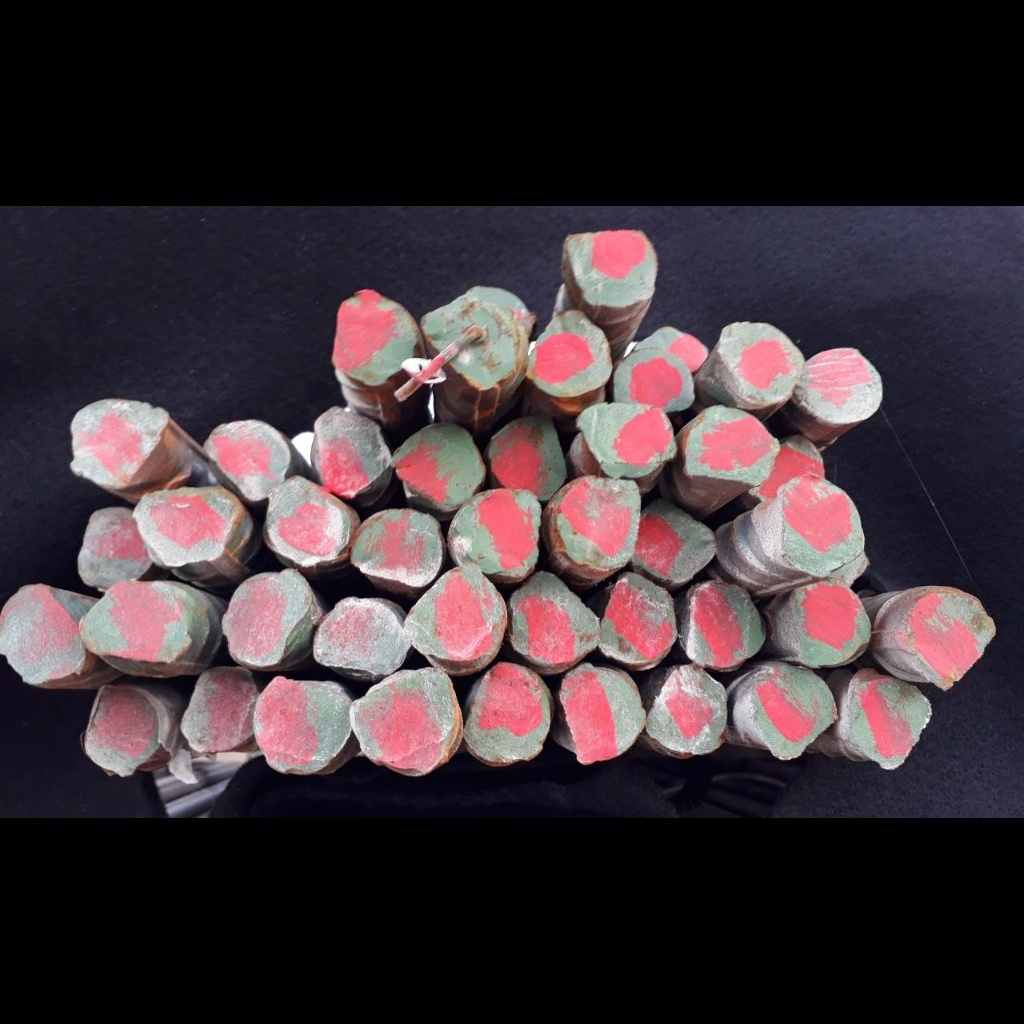dipstick: (352, 668, 459, 777), (423, 281, 530, 388), (406, 567, 508, 662), (254, 676, 351, 774), (1, 585, 85, 693), (223, 569, 313, 668), (333, 286, 420, 388), (506, 573, 601, 666), (465, 665, 552, 766), (66, 399, 169, 484), (79, 584, 191, 662), (907, 589, 997, 686), (134, 488, 242, 566), (780, 474, 866, 571), (561, 665, 645, 764), (751, 667, 839, 759), (393, 422, 487, 508), (526, 308, 613, 397), (780, 581, 871, 666), (452, 490, 542, 575), (684, 407, 778, 487), (853, 679, 935, 770), (311, 404, 390, 498), (579, 402, 678, 477), (314, 598, 410, 675), (558, 478, 640, 568), (203, 418, 290, 502), (266, 477, 350, 563), (719, 322, 803, 407), (682, 581, 767, 665), (600, 574, 679, 664), (631, 500, 716, 583), (649, 666, 729, 754), (89, 683, 163, 777), (566, 233, 658, 308), (354, 508, 440, 587), (803, 346, 883, 424), (494, 417, 566, 503), (184, 668, 256, 751), (79, 506, 151, 588), (613, 347, 694, 411), (759, 435, 825, 496), (636, 324, 707, 370)
